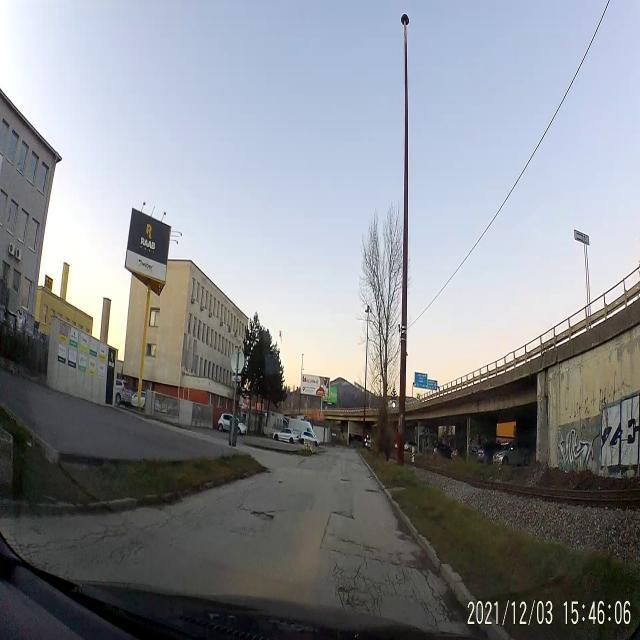Manhole: (362, 486, 382, 496)
Pothole: (324, 562, 376, 611), (248, 504, 280, 526), (329, 505, 359, 524), (338, 476, 354, 483), (274, 479, 286, 486)
